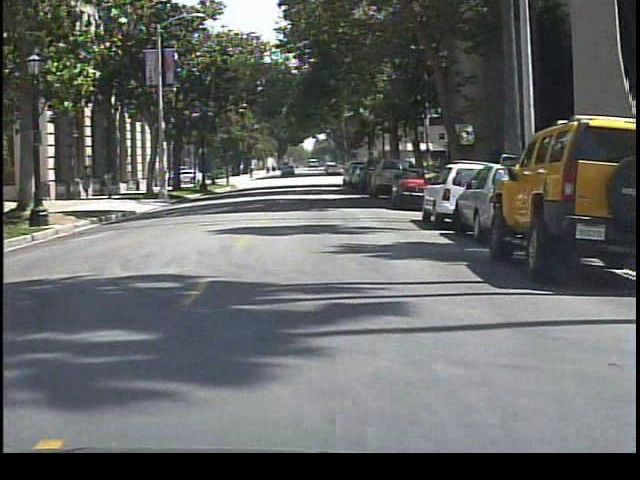person: (99, 163, 123, 199), (77, 162, 97, 203)
